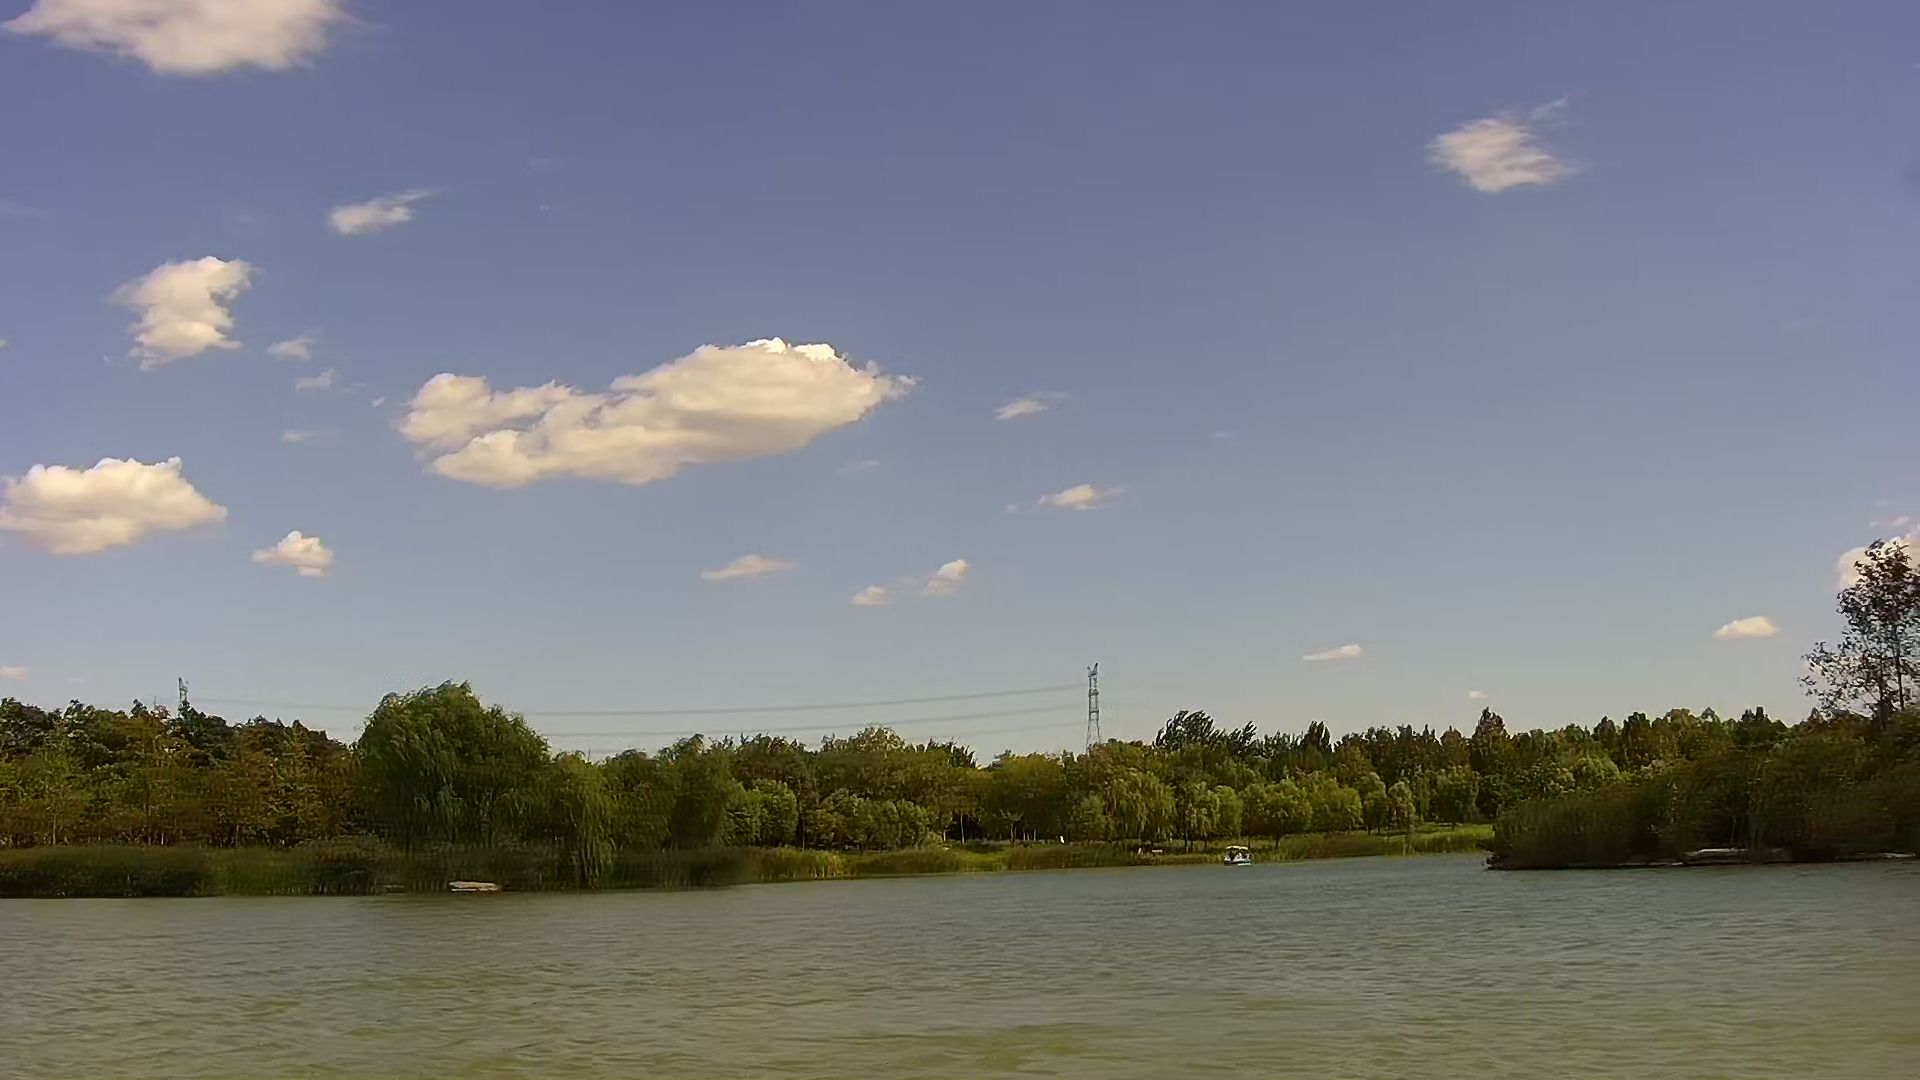boat: (1222, 843, 1247, 869)
rock: (1695, 845, 1768, 858), (450, 877, 500, 891)
